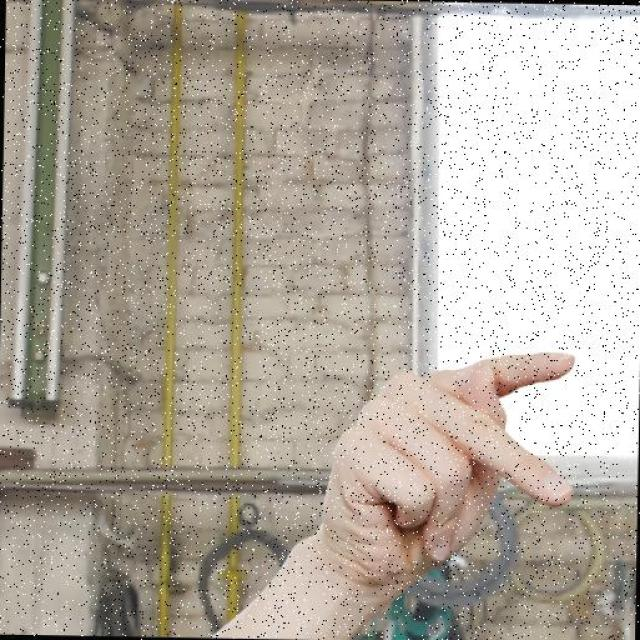P: (314, 340, 585, 604)
